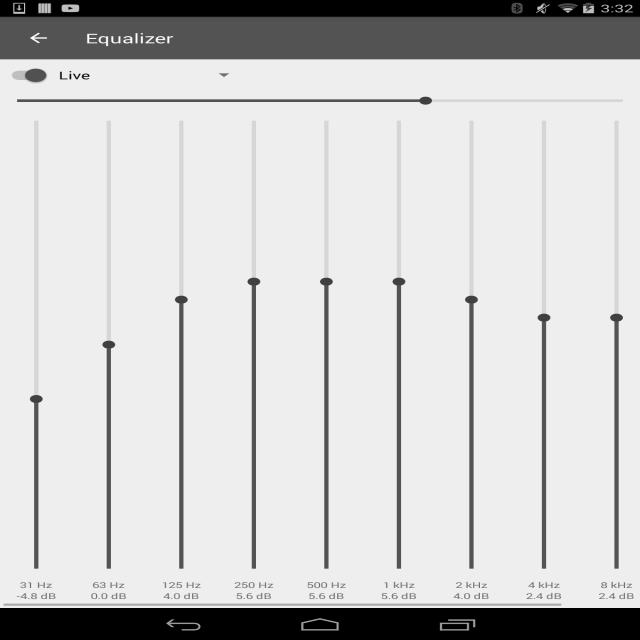CheckedTextView: (50, 59, 99, 92)
ImageButton: (9, 17, 68, 59)
SeekBar: (0, 110, 73, 579), (145, 110, 218, 579), (290, 110, 363, 579), (435, 110, 508, 579), (73, 110, 145, 579), (218, 110, 290, 579), (363, 110, 435, 579), (508, 110, 580, 579), (580, 110, 640, 579), (0, 91, 640, 110)
Spinner: (50, 59, 235, 92)
Switch: (0, 66, 50, 84)
TextView: (85, 29, 174, 47), (17, 590, 56, 602), (163, 590, 199, 602), (308, 590, 344, 602), (453, 590, 489, 602), (91, 590, 126, 602), (236, 590, 271, 602), (381, 590, 416, 602), (526, 590, 561, 602), (599, 590, 634, 602), (234, 580, 274, 590), (162, 580, 201, 590), (307, 580, 346, 590), (92, 580, 125, 590), (20, 580, 52, 590), (383, 580, 415, 590), (456, 580, 488, 590), (528, 580, 560, 590), (600, 580, 632, 590)
